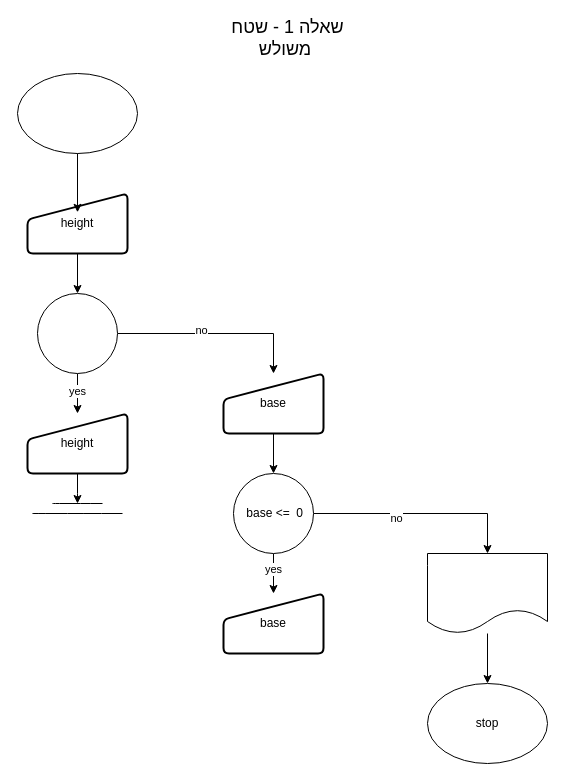
The diagram is 565 pixels wide and 781 high, and some of its shapes have lost their labels. The centre of each missing label's shape, as x and y in pixels:
"height * base / 2" goes at point (487, 593).
"height <= 0" goes at point (77, 333).
"start" goes at point (77, 113).
